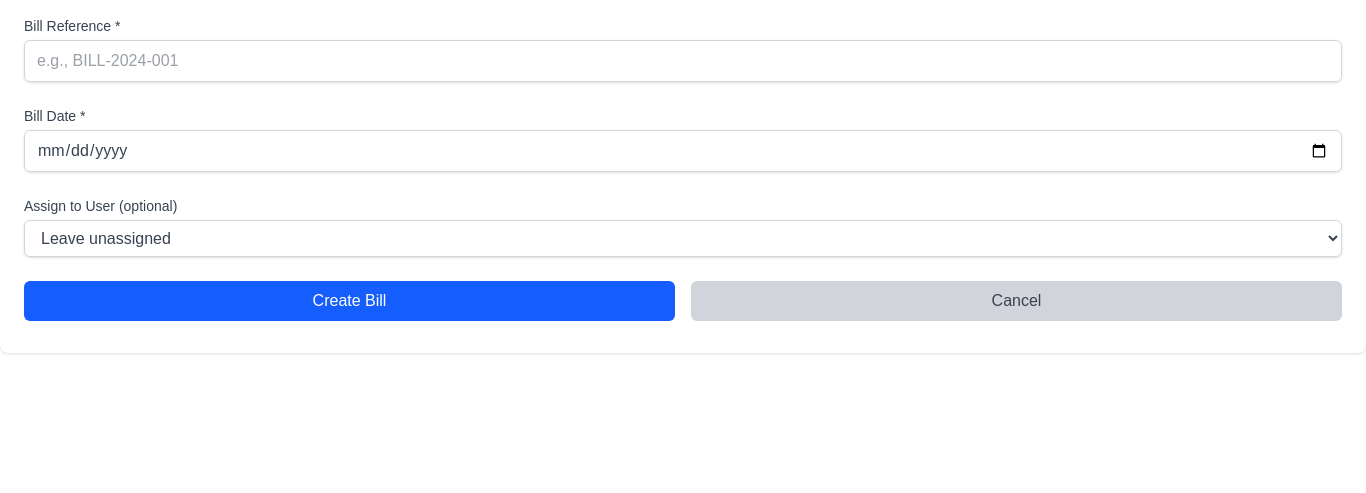
Test case: BillForm › handles server error during creation
In the field with test id "bill-reference-input": (683, 61) [24,40,1342,82], type "BILL-TEST-001"
Wait 500 ms
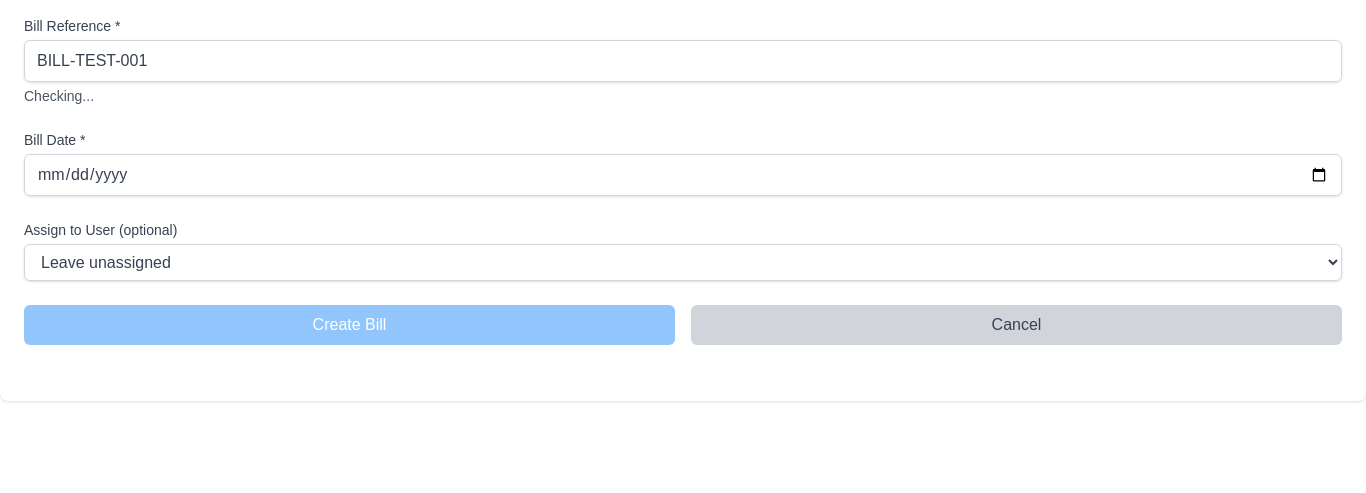
In the date field with test id "bill-date-input": (683, 175) [24,154,1342,196], type "2024-01-01"
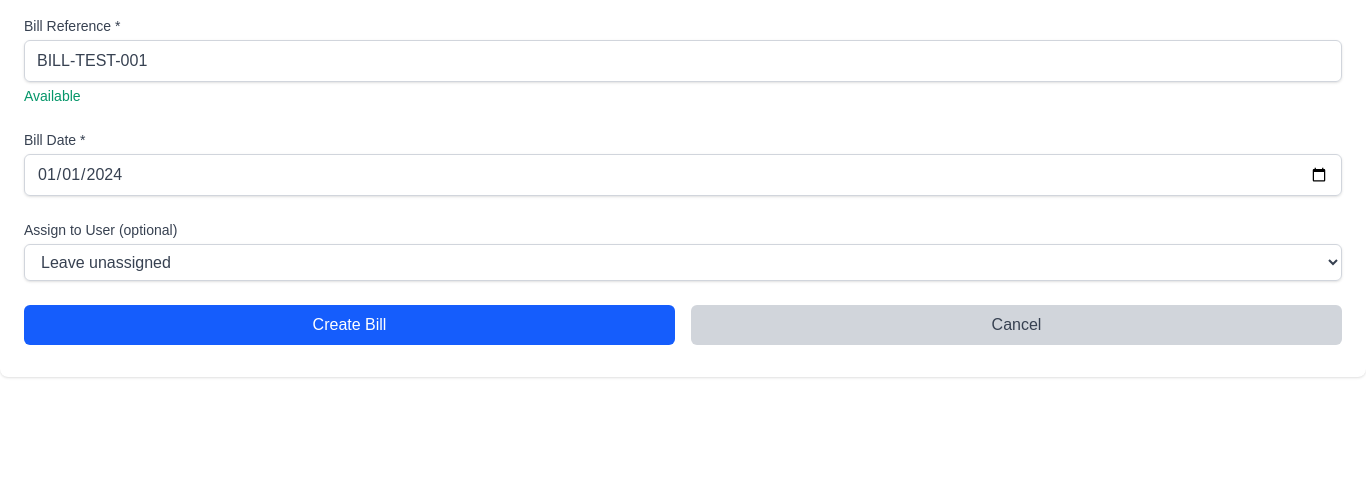
Click the button with test id "submit-button": (350, 325) [24,305,675,345]
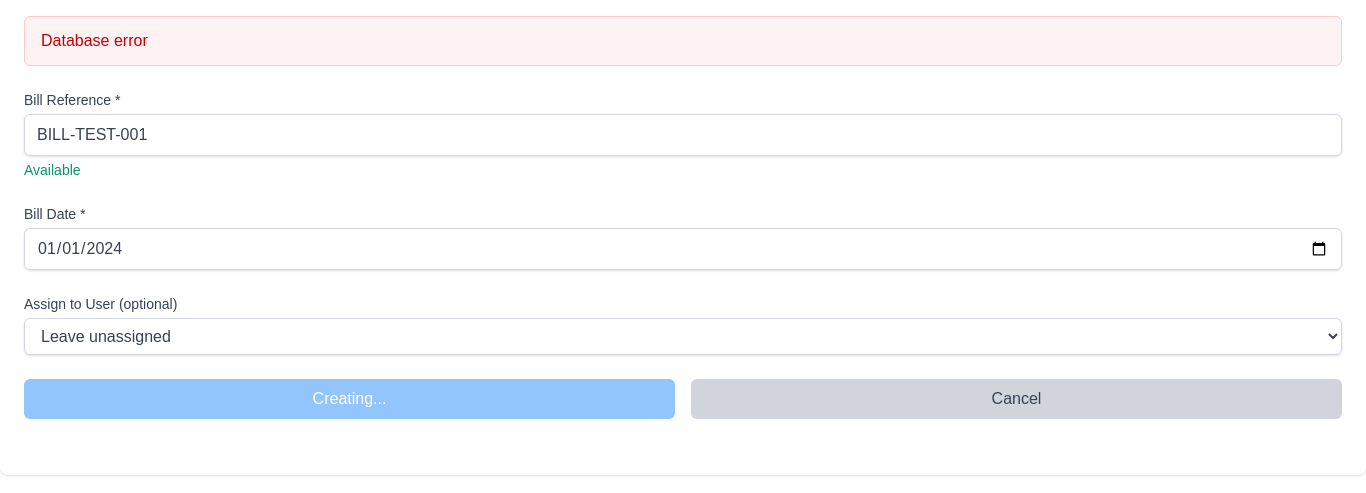
Now the message with test id "form-error" reads "Database error", box [41,32,148,49]
